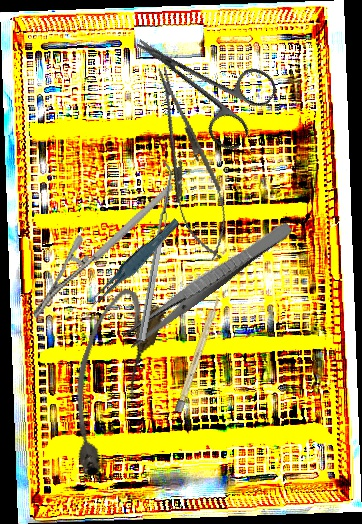Cannula: (46, 282, 169, 483)
Dressing Forceps: (120, 215, 295, 351)
Iris Scissors: (115, 3, 283, 156)
Needle Holder: (7, 182, 200, 321), (139, 60, 241, 266)
Scalpel Handle: (174, 295, 222, 413)
Spatula Surgical: (131, 160, 177, 341)
Tissue Forceps: (81, 217, 186, 309)
